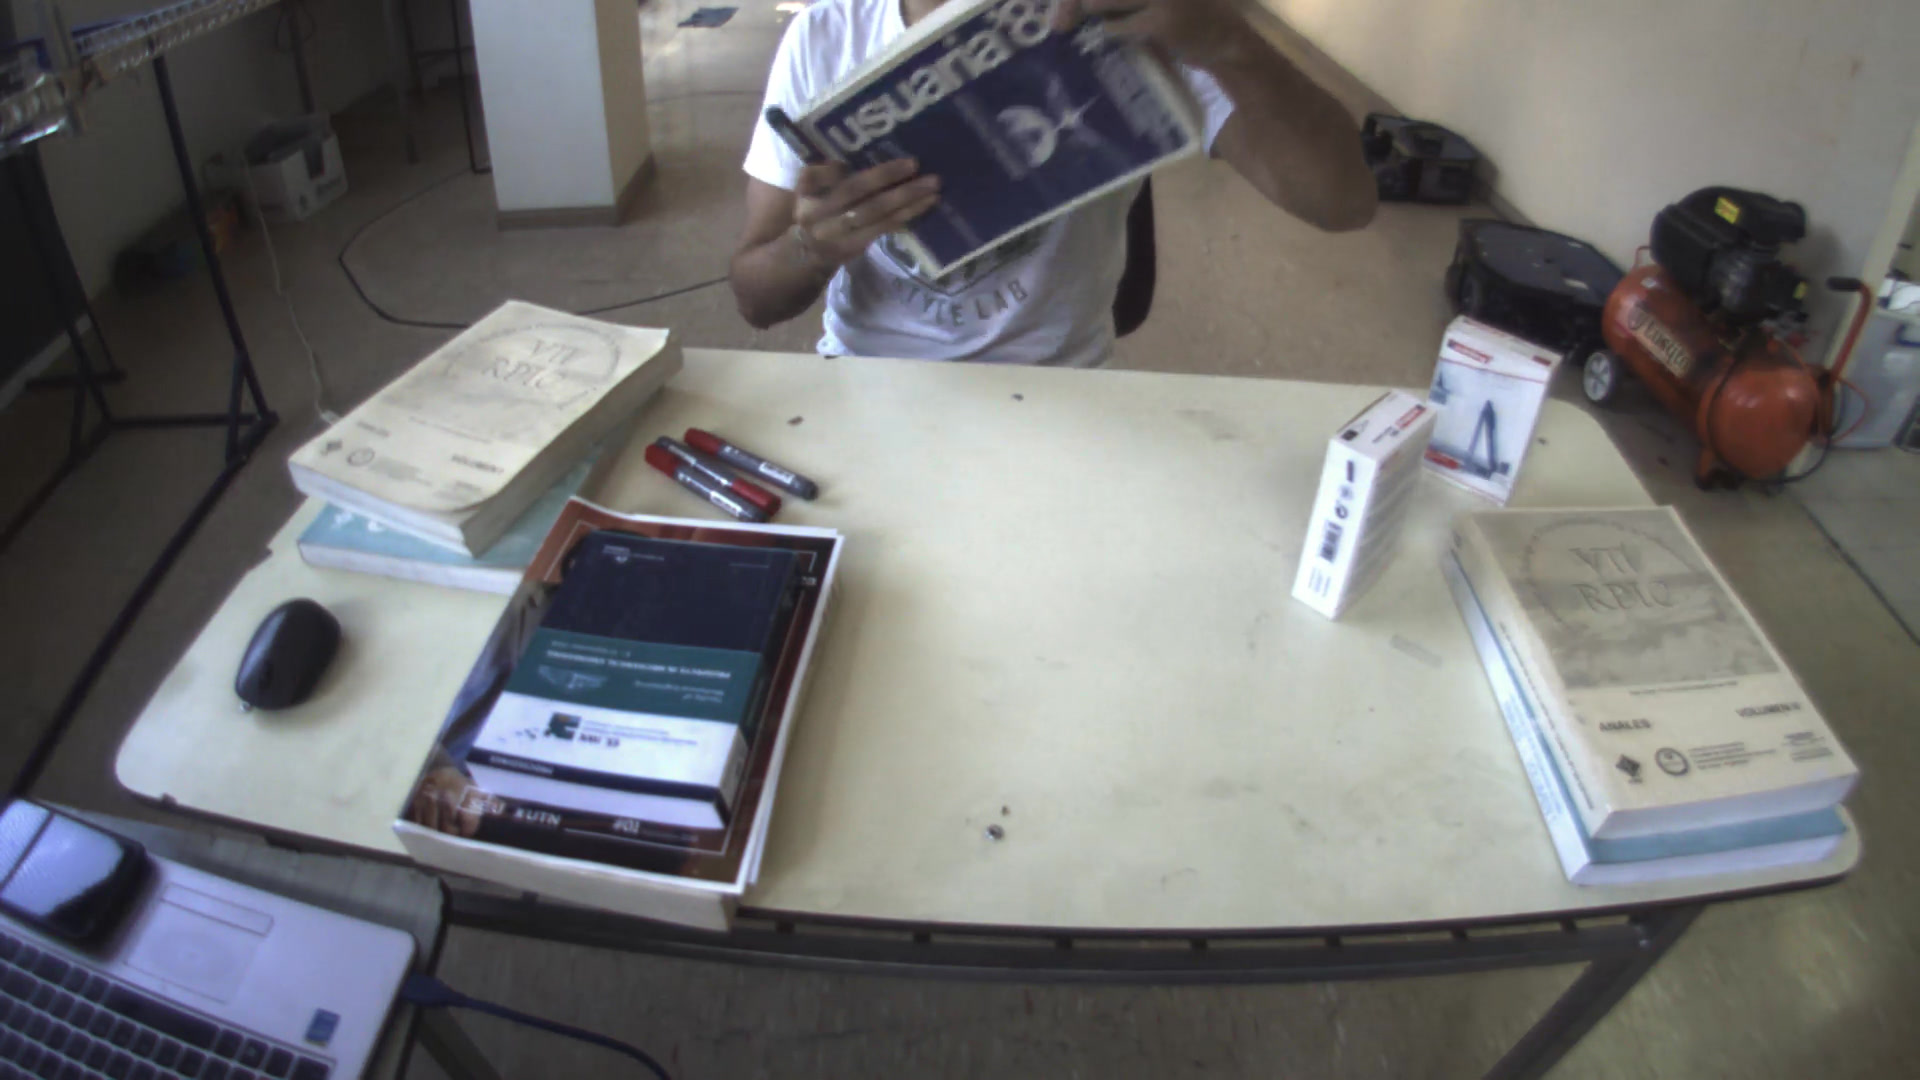hand: (785, 129, 944, 285)
